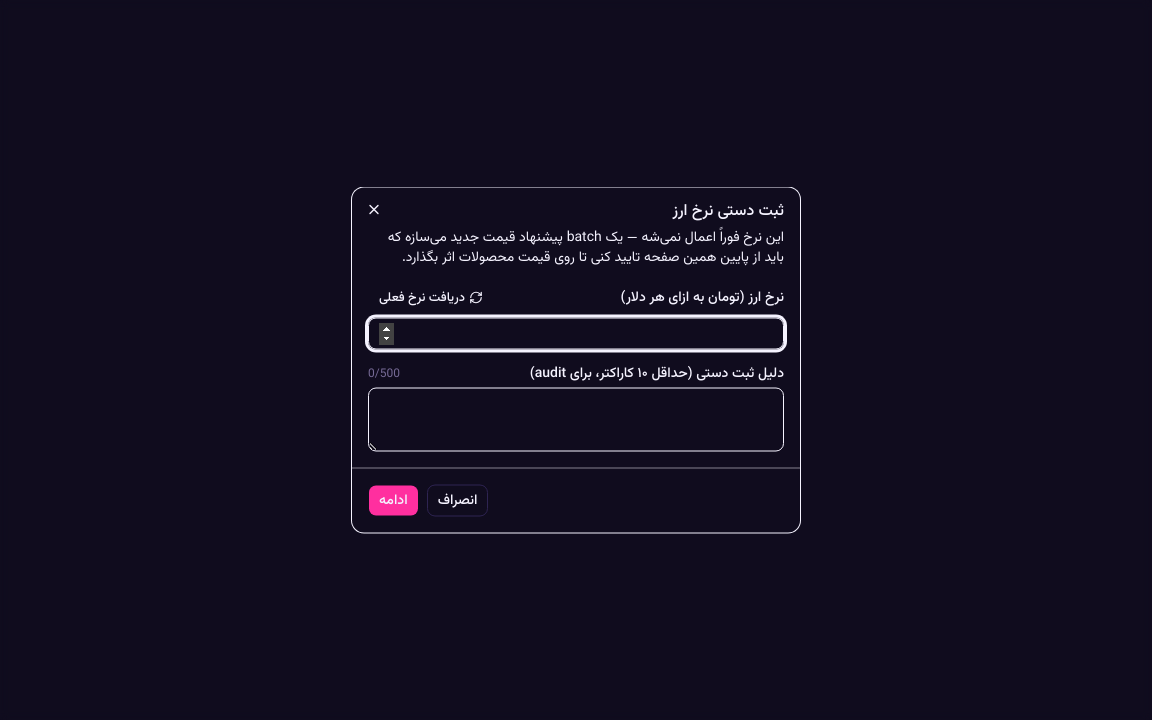
Test: ManualOverrideDialog › form step (step=form) › shows reason validation error when reason is too short
Type "65000" into the number field at (576,334), box [368,318,784,350]
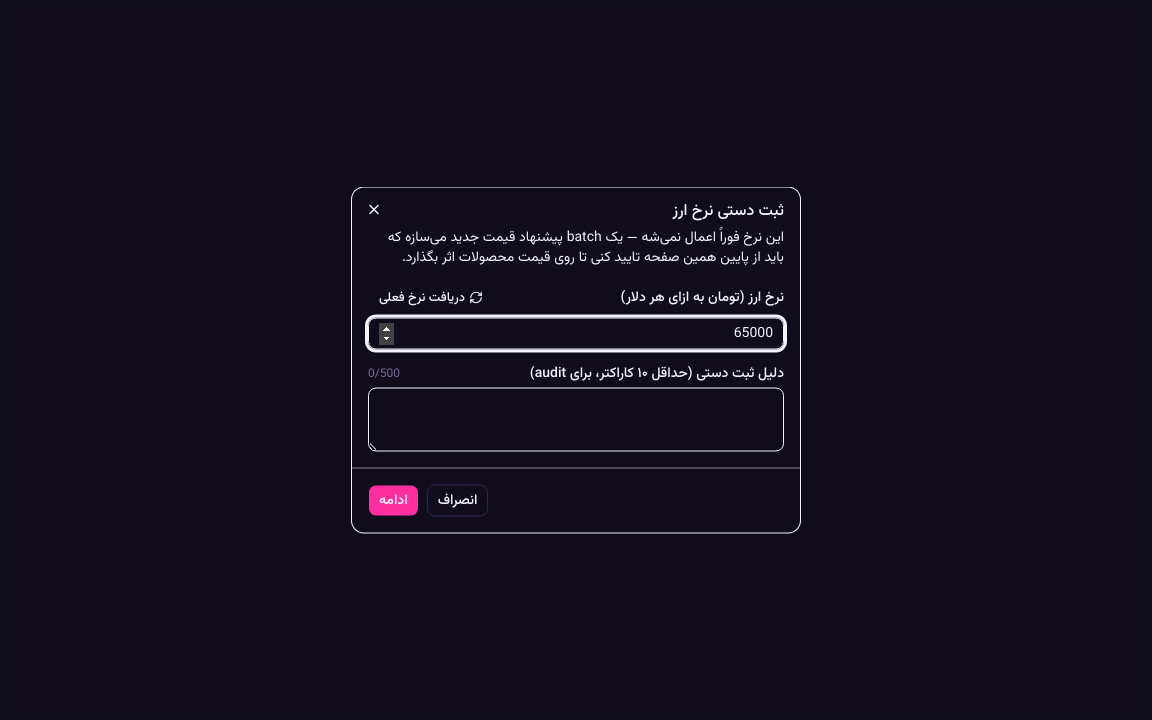
Type "کوتاه" into the text box labelled "دلیل ثبت دستی (حداقل ۱۰ کاراکتر، برای audit)" at (576,420), box [368,388,784,452]
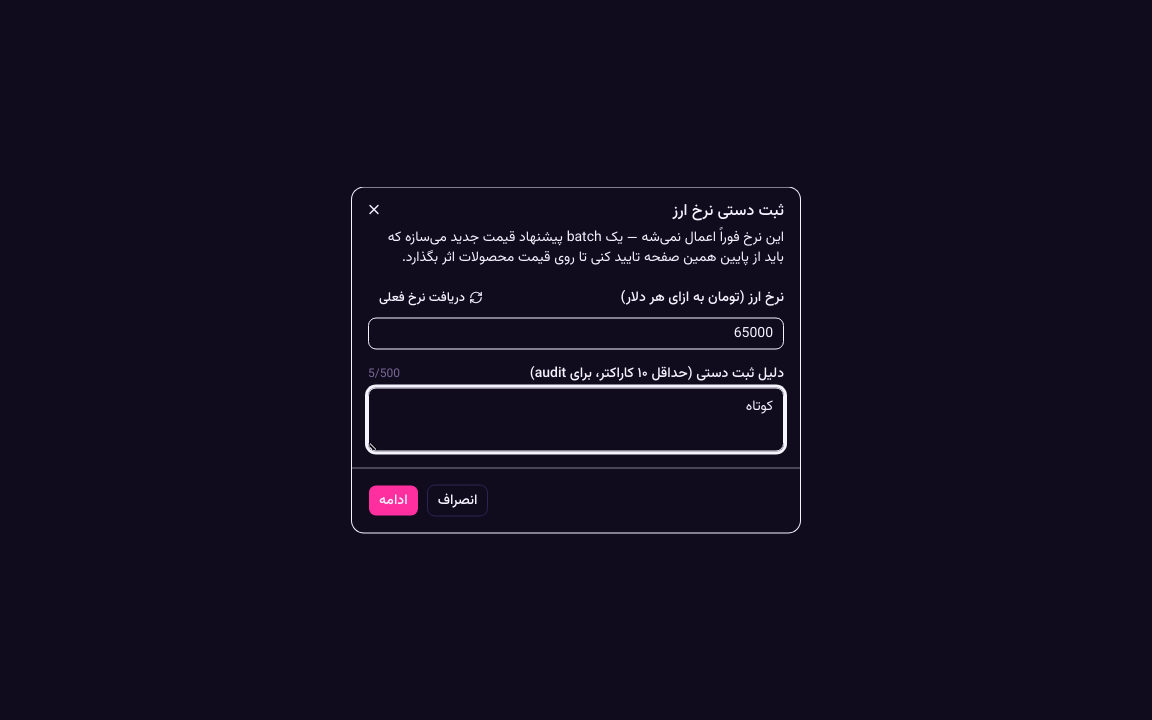
Click the button "ادامه" at (393,500), box [368,484,419,516]
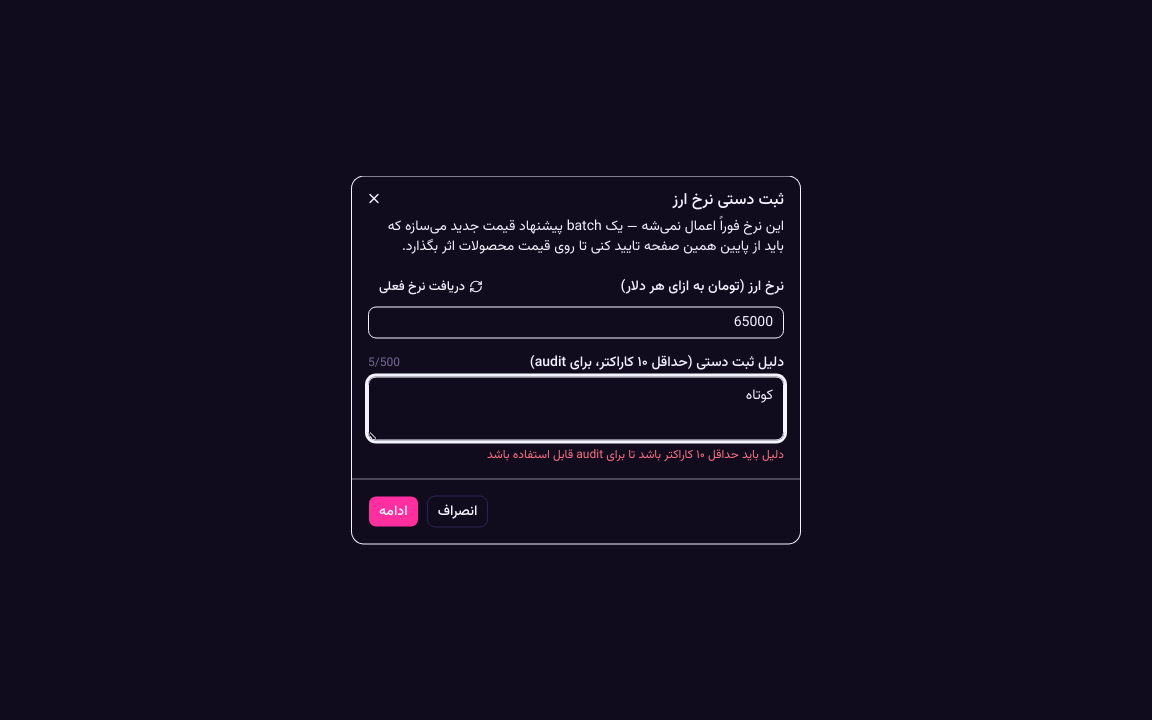
Check: the text "برای audit قابل استفاده" is shown, box [487,446,784,464]
